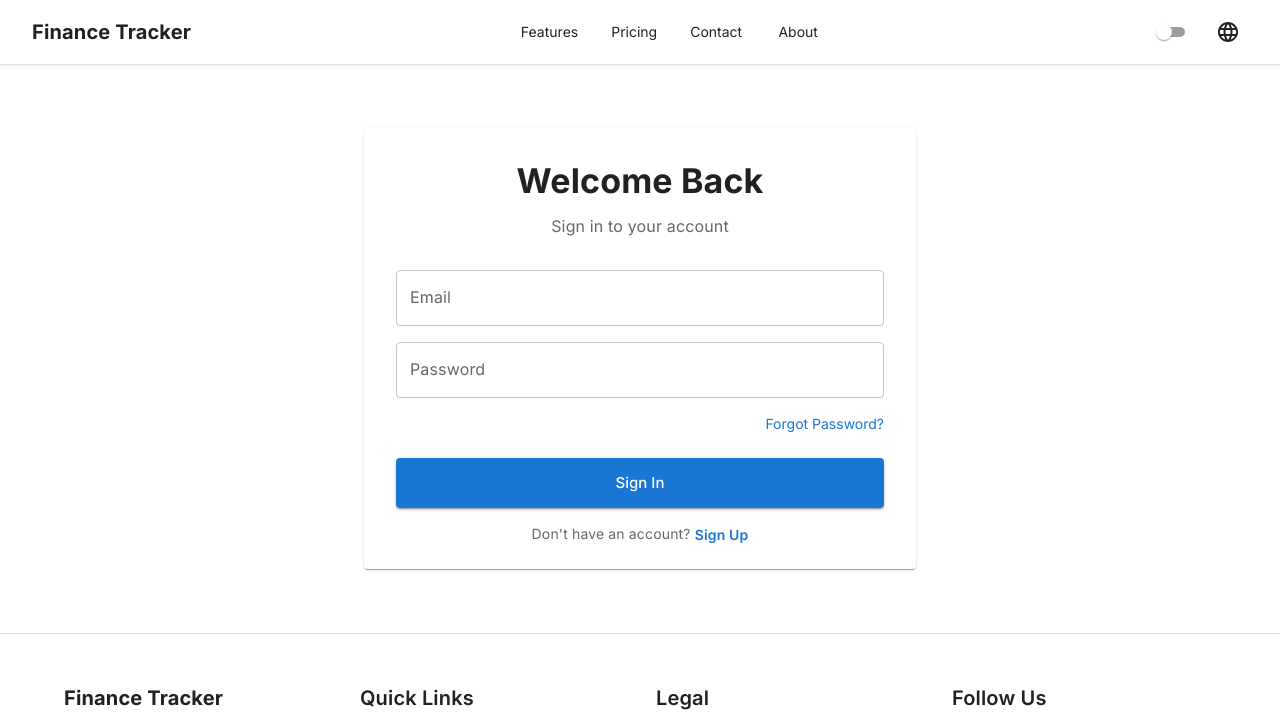
Test case: LoginPage › should show error message for invalid credentials
The width and height of the screenshot is (1280, 720).
Type "demo@example.com" into the field labelled "Email".
click(640, 298); type("demo@example.com")  # box left=396, top=270, right=884, bottom=326
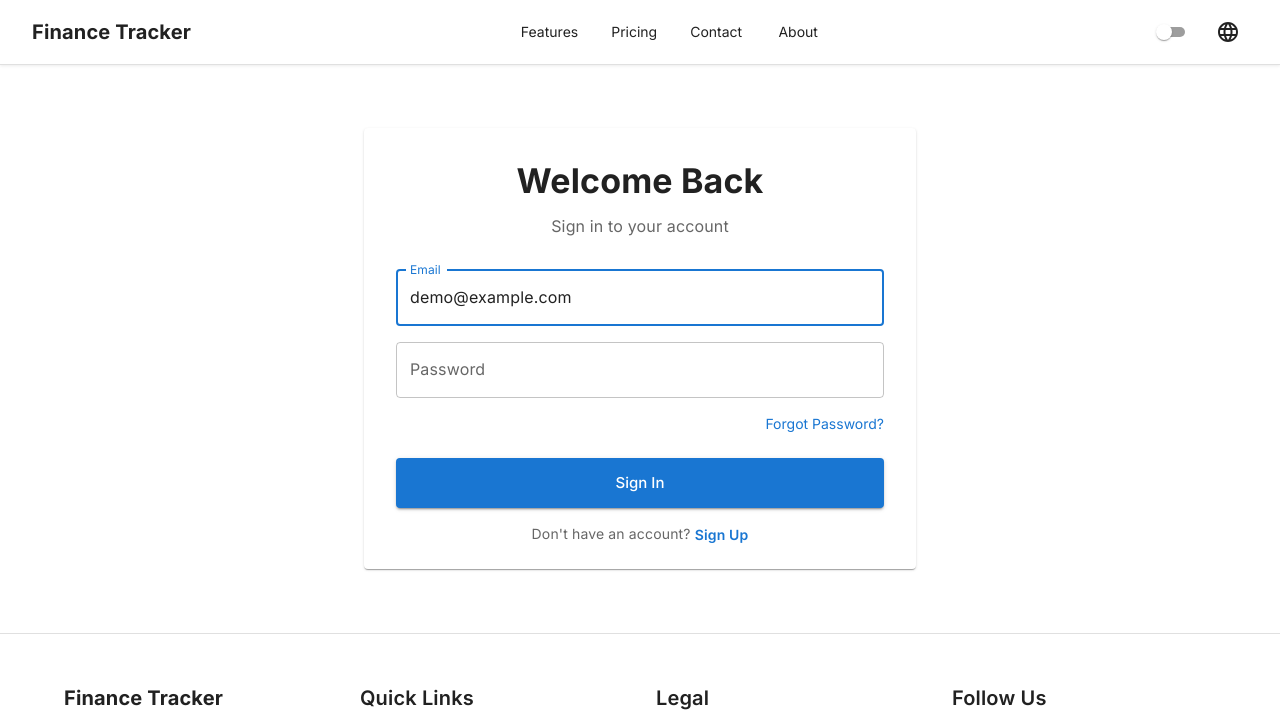
Type "wrongpassword" into the password field labelled "Password".
click(640, 370); type("wrongpassword")  # box left=396, top=342, right=884, bottom=398
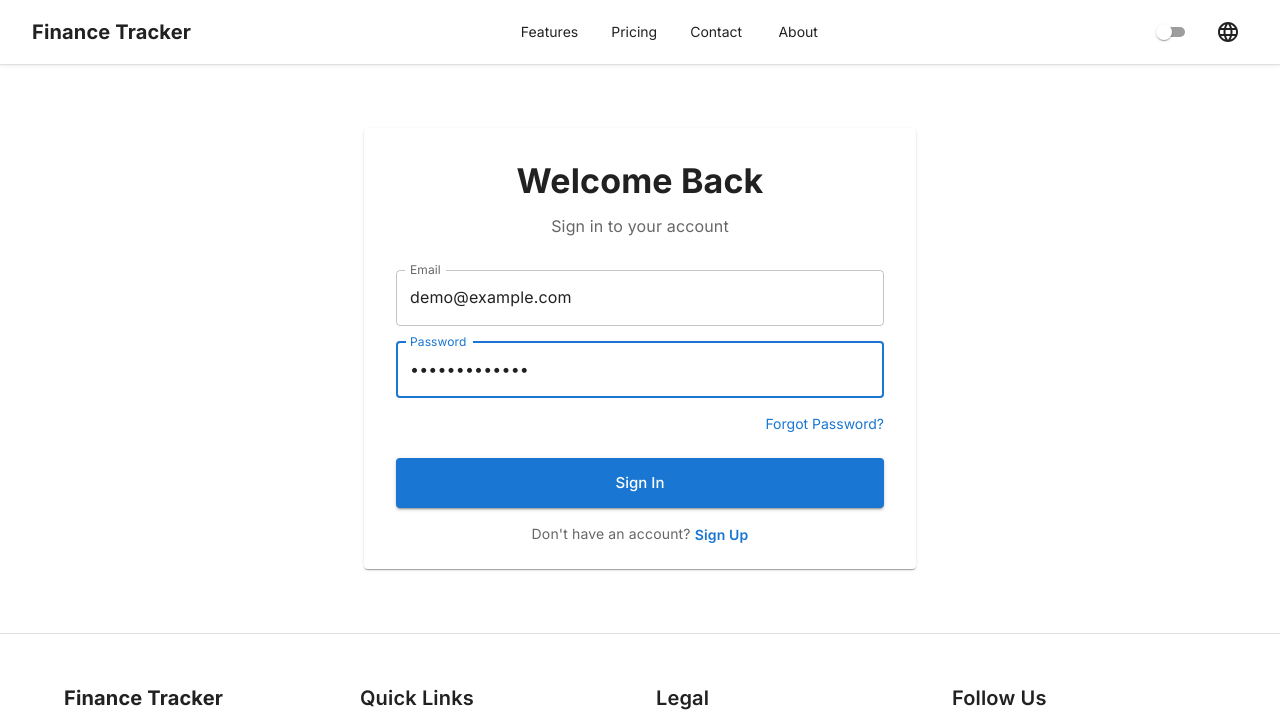
Click the button "Sign In".
click(640, 483)  # box left=396, top=458, right=884, bottom=508
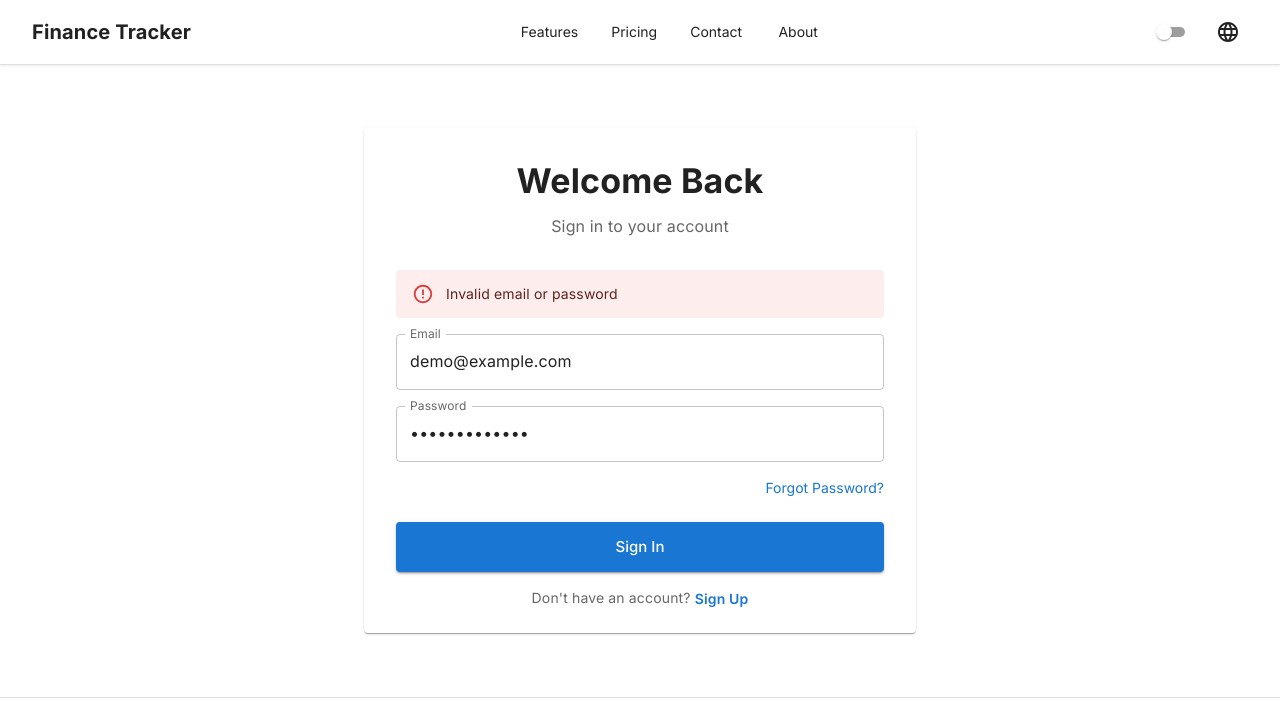
Result: the text "Invalid email or password" is shown at left=446, top=285, right=618, bottom=302
